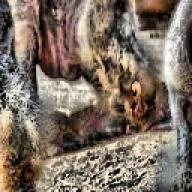boar: (0, 0, 166, 135), (0, 0, 57, 192), (150, 0, 192, 192)
